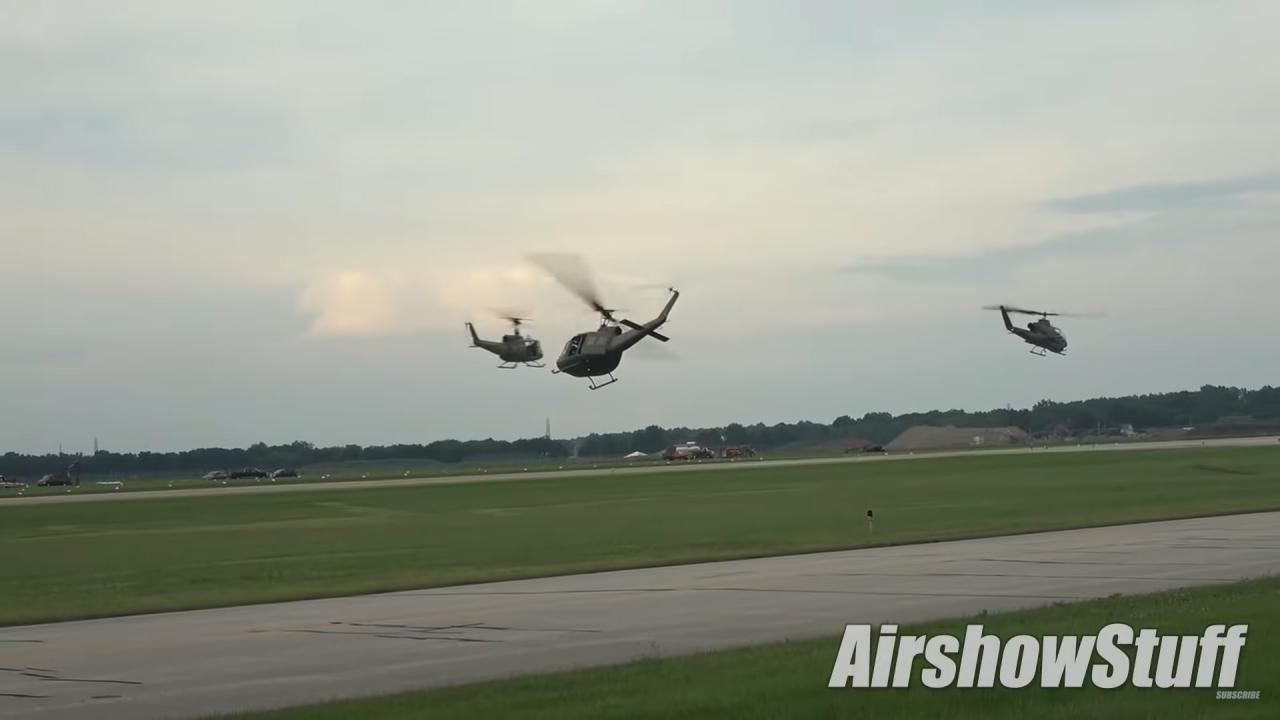Helicopter: (516, 243, 692, 396), (450, 287, 558, 377), (976, 292, 1091, 362)
